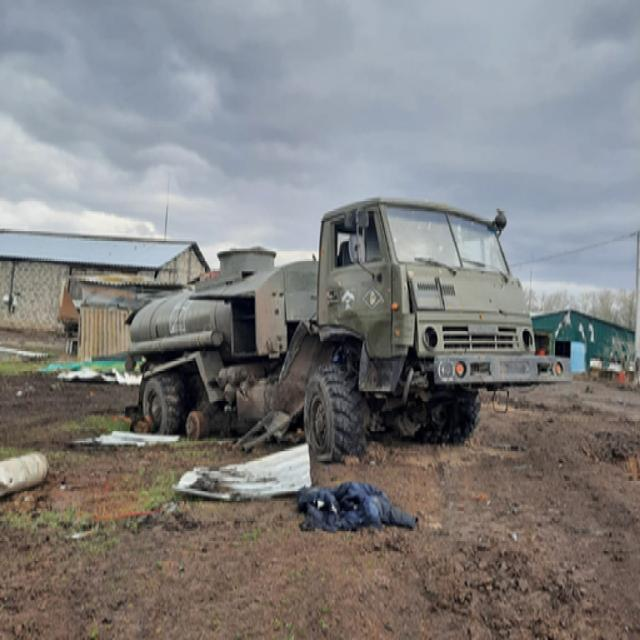TRUCK: (125, 187, 536, 453)
